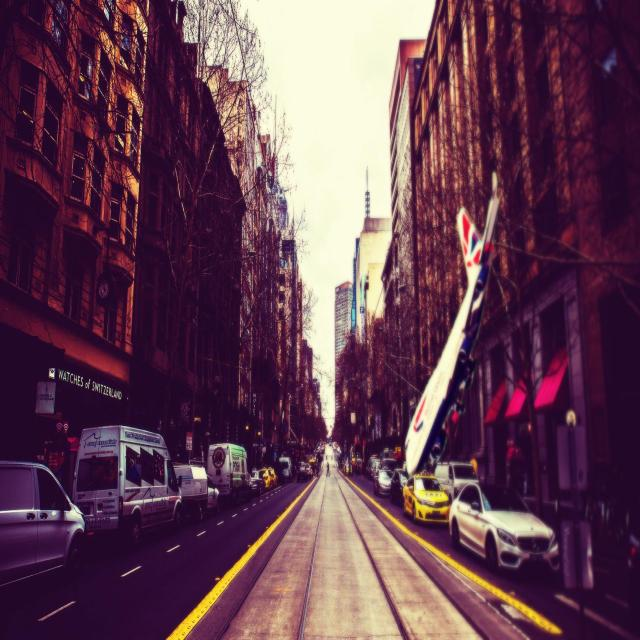airplane: (404, 171, 501, 476)
